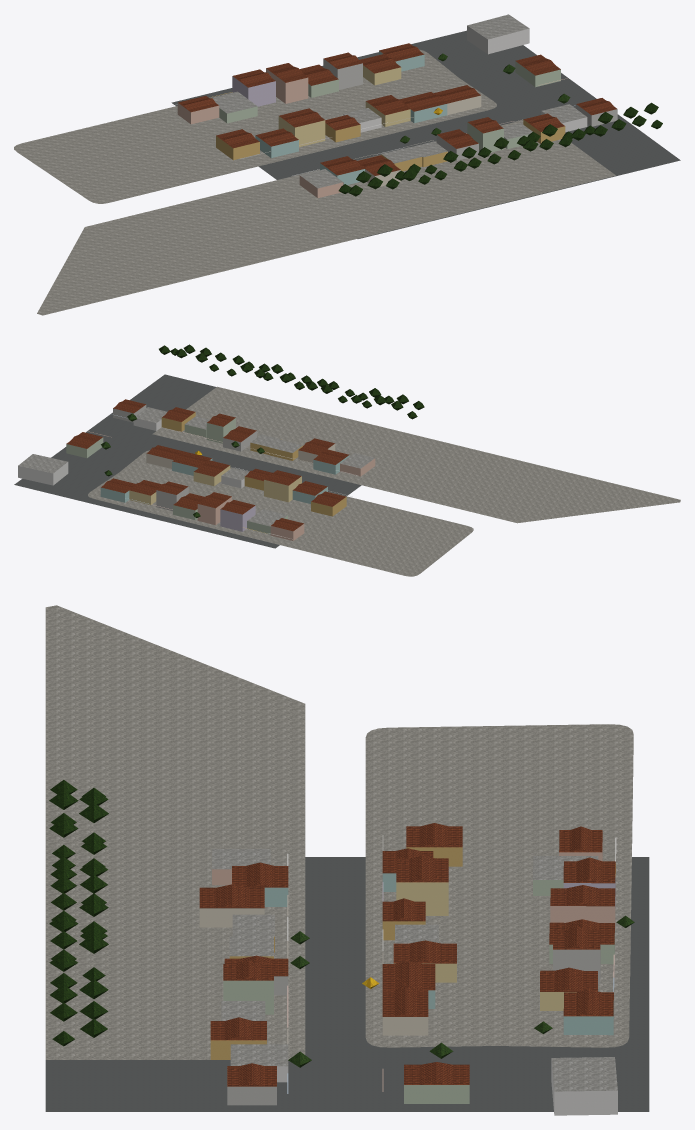
The model's file is cidade_S01_00_lod.gltf.
The picture shows the model from 3 angles, top to bottom: view 1: azimuth 30°, elevation 25°; view 2: azimuth 150°, elevation 25°; view 3: azimuth 270°, elevation 25°; orthographic projection. The views are drawn at different scales.
Parts seen in each view (by area): view 1: S01_00_Chao_LOD2, S01_00_Edificios_LOD1, S01_00_Silhueta_LOD2, S01_00_Vegetacao_LOD2; view 2: S01_00_Chao_LOD2, S01_00_Edificios_LOD1, S01_00_Silhueta_LOD2, S01_00_Vegetacao_LOD2; view 3: S01_00_Chao_LOD2, S01_00_Edificios_LOD1, S01_00_Silhueta_LOD2, S01_00_Vegetacao_LOD2.
Boxes of the visible parts, x1,y1,x2,y2 form: S01_00_Chao_LOD2: (14, 30, 680, 315); S01_00_Edificios_LOD1: (171, 14, 617, 197); S01_00_Silhueta_LOD2: (177, 43, 617, 186); S01_00_Vegetacao_LOD2: (338, 53, 662, 196); S01_00_Chao_LOD2: (14, 374, 680, 576); S01_00_Edificios_LOD1: (18, 401, 375, 540); S01_00_Silhueta_LOD2: (66, 399, 349, 540); S01_00_Vegetacao_LOD2: (101, 344, 424, 517); S01_00_Chao_LOD2: (45, 605, 649, 1111); S01_00_Edificios_LOD1: (199, 823, 617, 1115); S01_00_Silhueta_LOD2: (199, 826, 615, 1105); S01_00_Vegetacao_LOD2: (49, 780, 634, 1067).
Size of the model in its own units: 200 by 15.98 by 100.
19 materials, 19 textured.
